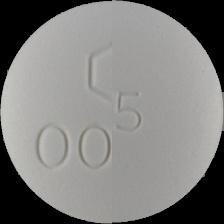61919-094: (0, 0, 224, 224)
